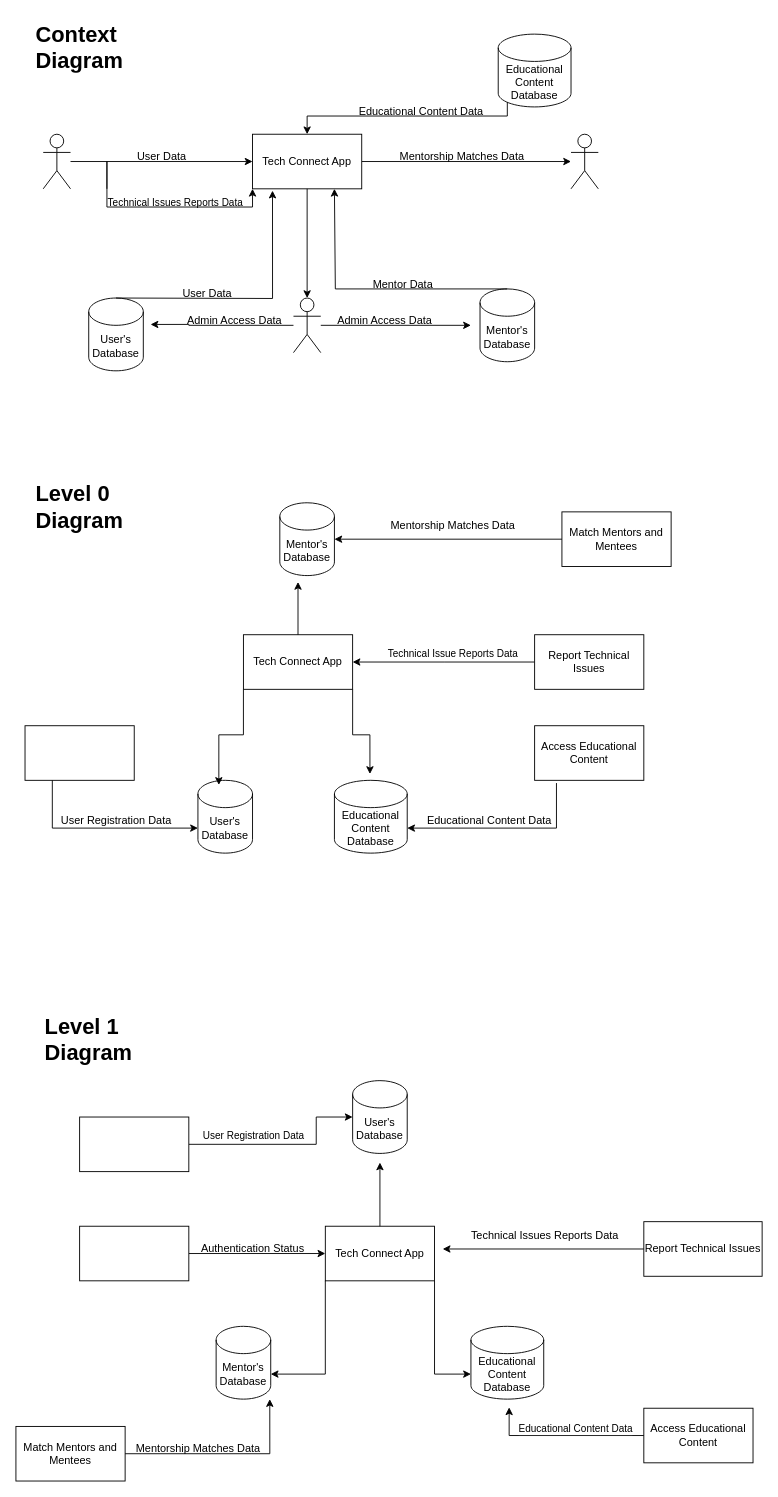
Some shapes in this 778 by 1497 pixel diagram are drawn without their labels. The centre of each missing label's shape, as x and y in pixels:
Administrators: point (307, 325)
Authenticate User: point (134, 1253)
Manage User Profiles: point (79, 752)
Mentors: point (584, 161)
Register User: point (134, 1144)
Users: point (56, 161)
